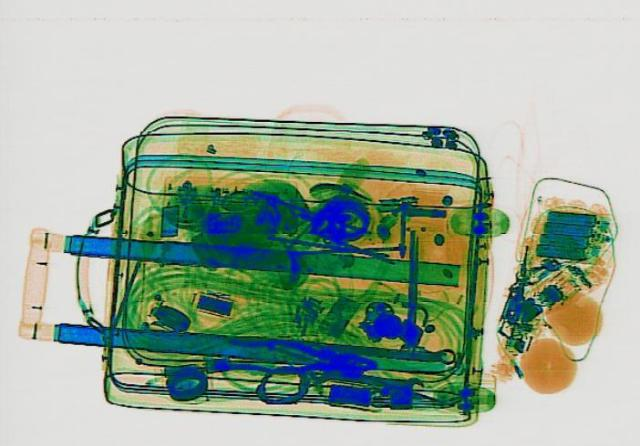Pliers: (212, 333, 380, 380)
